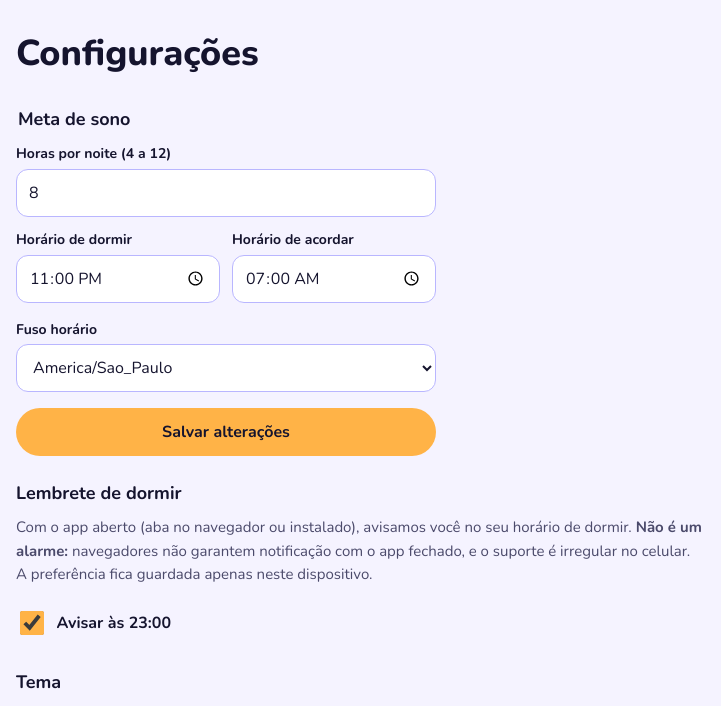
Test: tela de Configurações › reagenda o lembrete quando o fuso do perfil muda (#278)
Step 1. Select "Asia/Tokyo" in the dropdown labelled "Fuso horário" → (226, 368), box [16, 344, 436, 392]
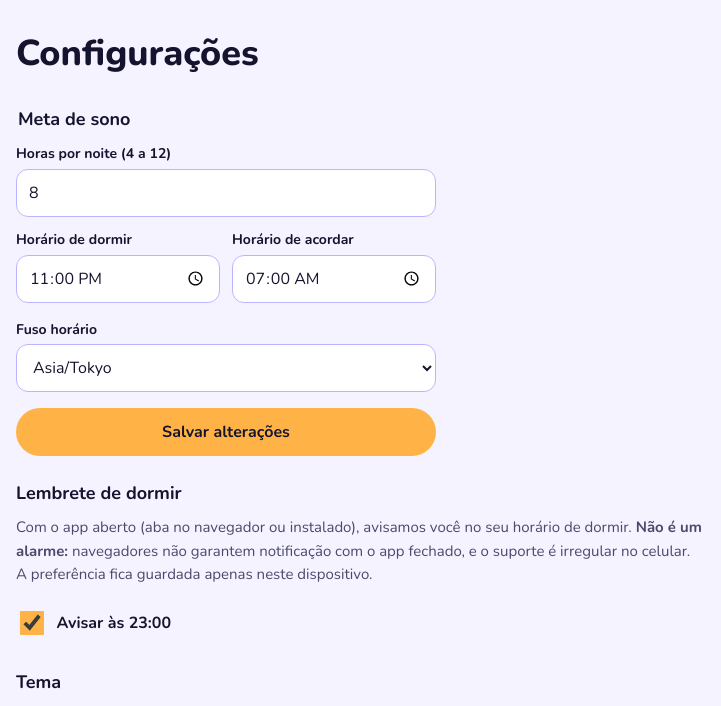
Step 2. Click the button "Salvar alterações" → click(226, 432), box [16, 408, 436, 456]
(page scrolled)
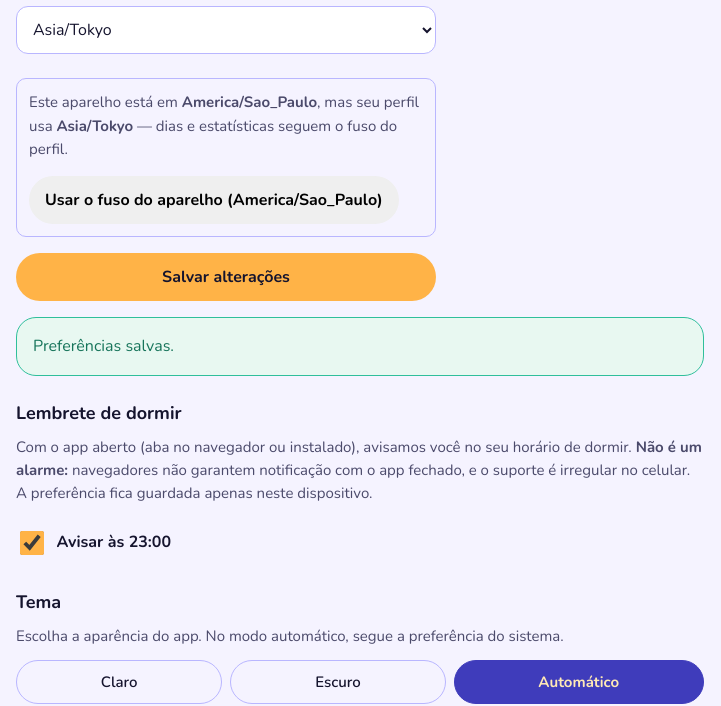
Expected: the text "Preferências salvas." is shown, [16, 317, 704, 376]
